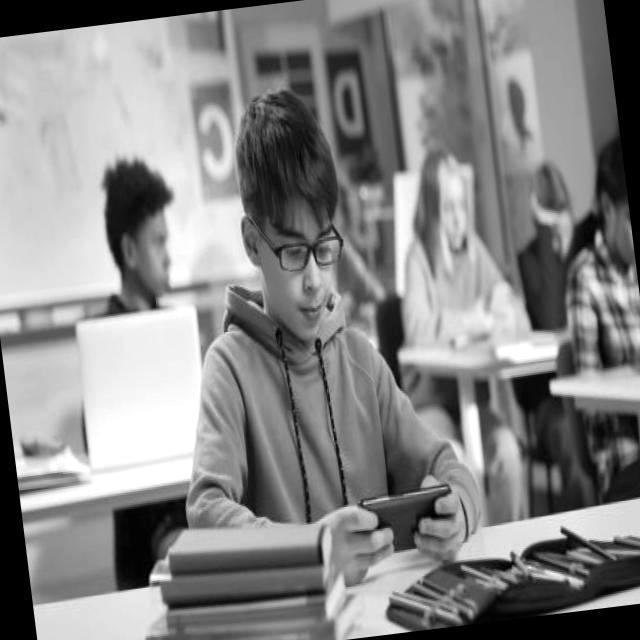phone: (358, 482, 458, 554)
